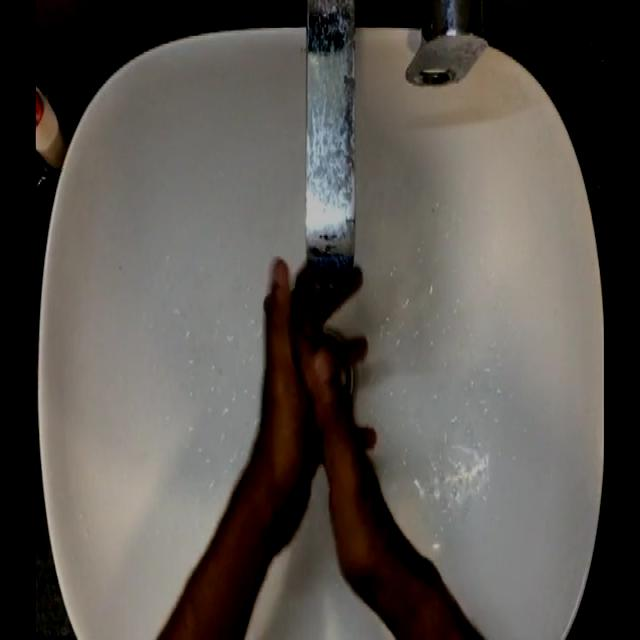step_3: (250, 210, 378, 530)
